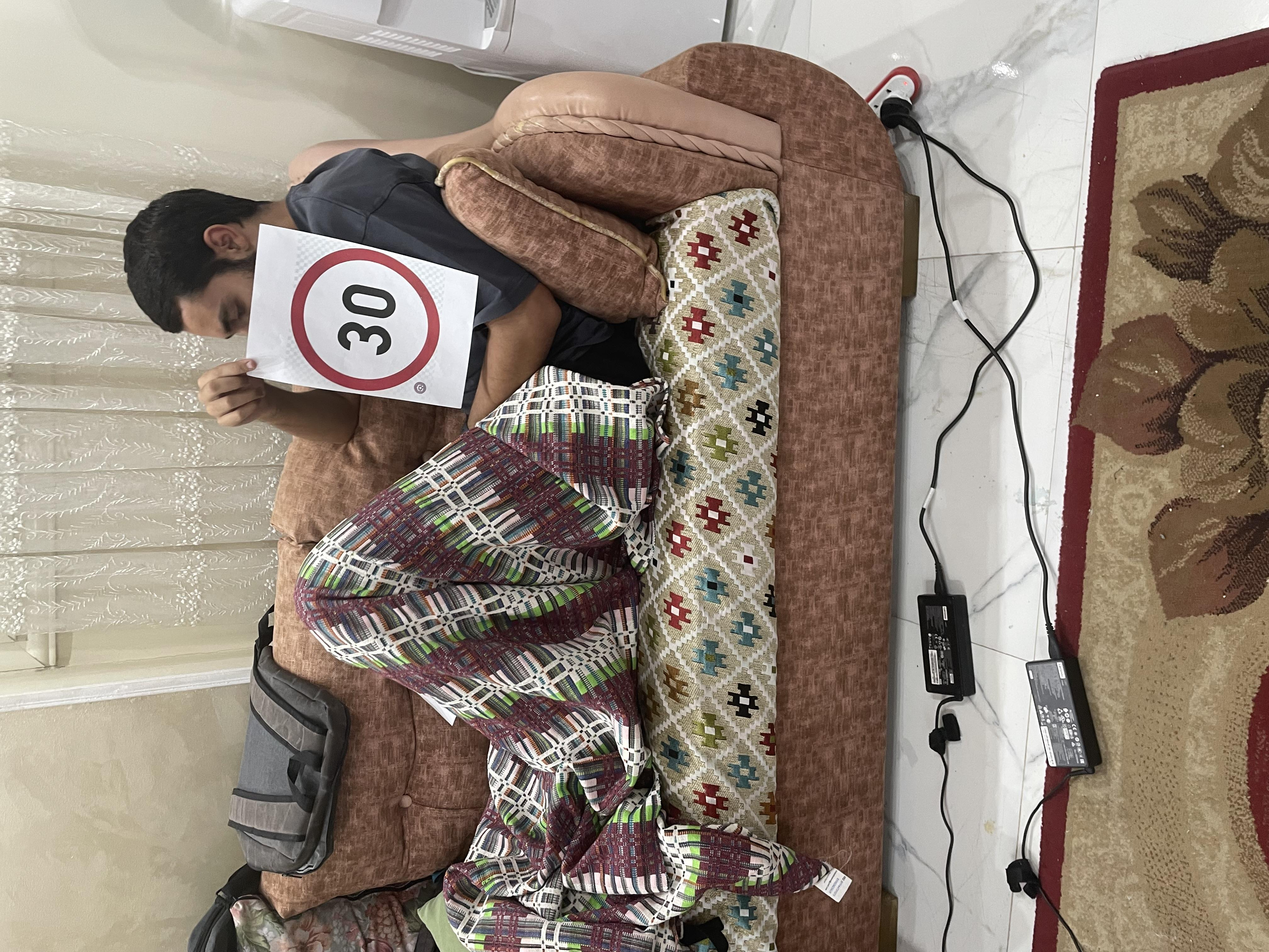30-speed: (741, 215, 949, 332)
